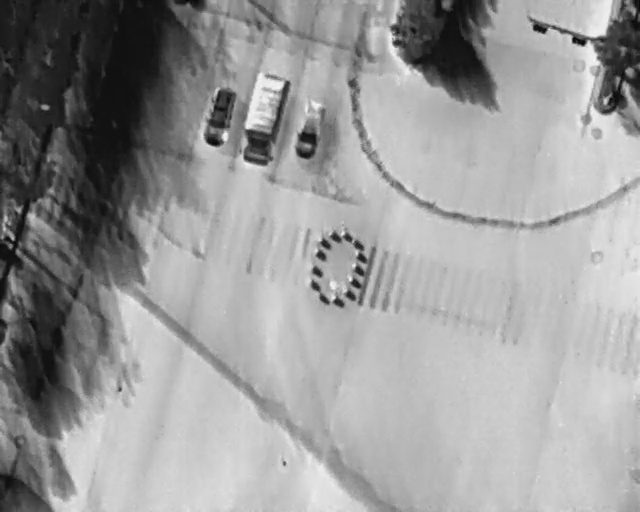Car: (200, 82, 241, 150), (291, 98, 326, 162)
OtherVehicle: (236, 71, 295, 170)
